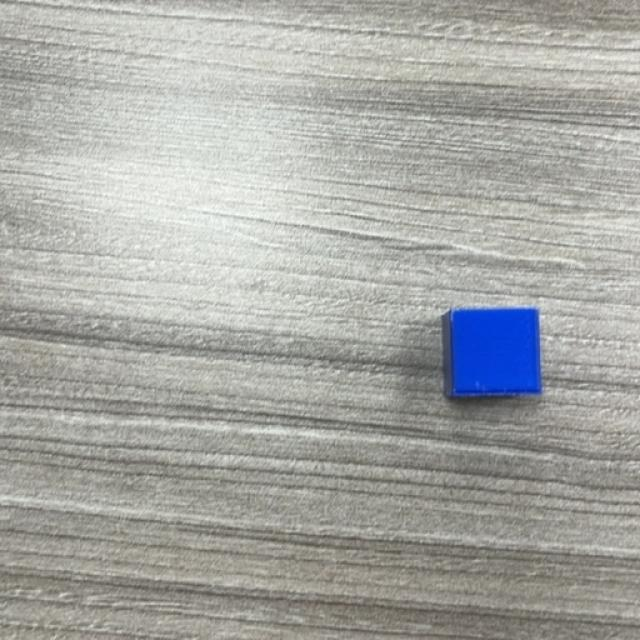Azul: (441, 306, 542, 401)
